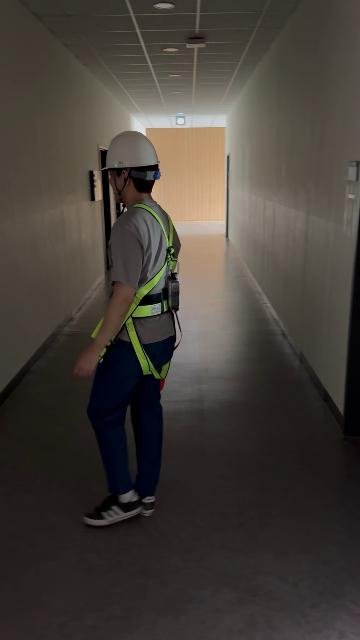helmet_worn: (101, 129, 162, 170)
shoe_not_worn: (83, 490, 145, 526), (140, 493, 155, 516)
vest_worn: (105, 205, 181, 369)
